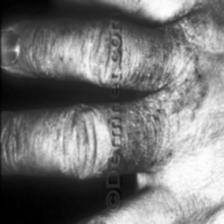Non-Cancerous Skin Condition: (124, 3, 224, 166)
